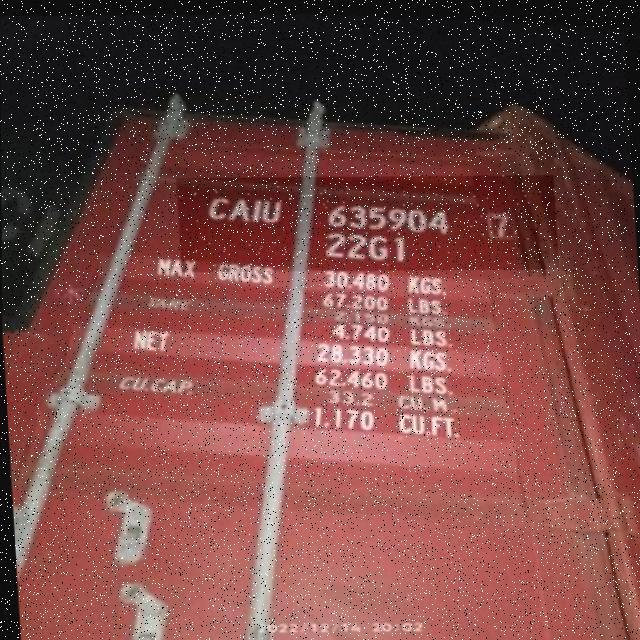container_number_h: (176, 157, 559, 284)
